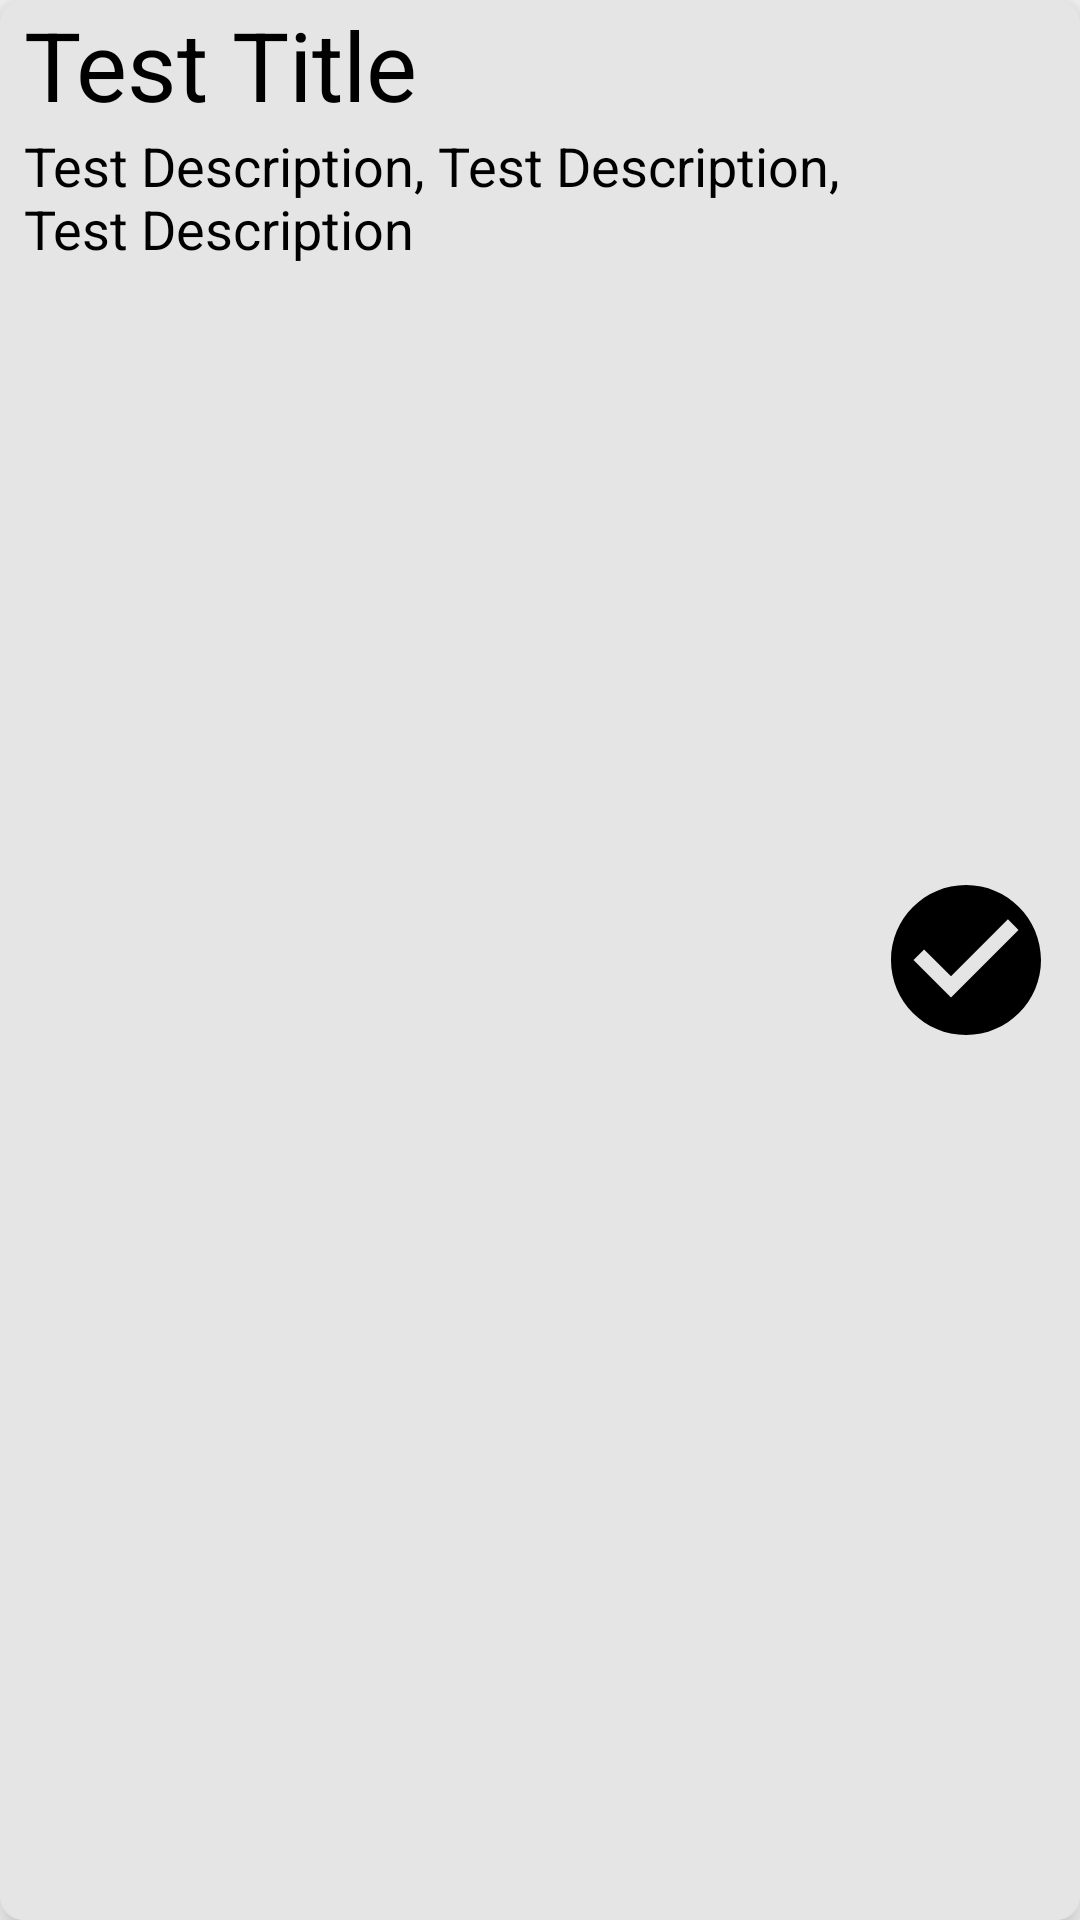

Point at icon controls on the screen. Image size 1080*1920, points as (x=x, y=y).
check: (x=966, y=960)
